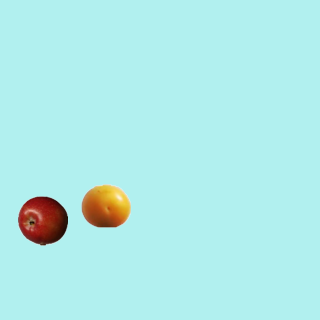Apple Braeburn: (17, 195, 67, 245)
Cherry Wax Yellow: (80, 180, 130, 230)
